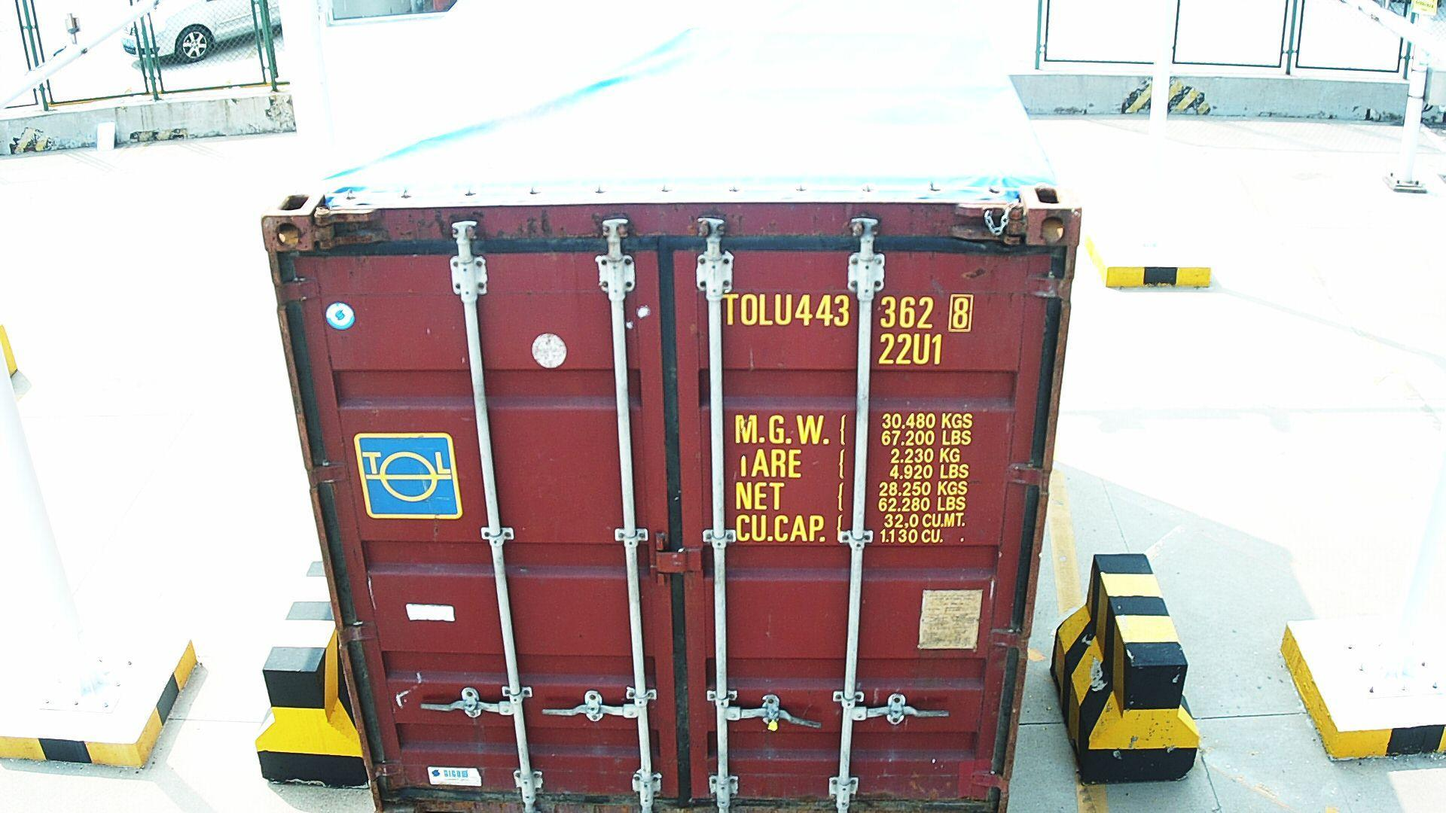container-numbers: (721, 289, 976, 334), (875, 333, 946, 369)
